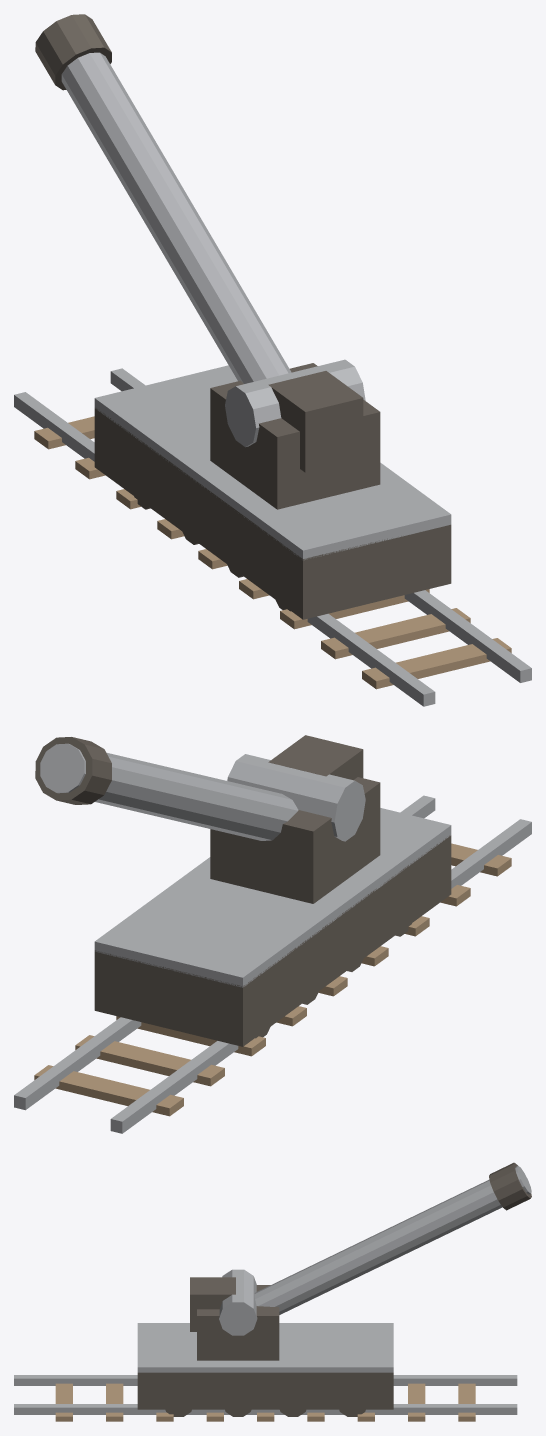
Rendered from enemy-railwaygun.glb.
The picture shows the model from 3 angles, top to bottom: view 1: azimuth 30°, elevation 25°; view 2: azimuth 150°, elevation 25°; view 3: azimuth 270°, elevation 25°; orthographic projection. The views are drawn at different scales.
Visible parts, largest first — view 1: enemy-railwaygun; view 2: enemy-railwaygun; view 3: enemy-railwaygun.
Part boxes in pixels (x1,y1,x2,y2): enemy-railwaygun: (14,14,531,706); enemy-railwaygun: (14,735,531,1133); enemy-railwaygun: (14,1162,531,1421).
Bounding box in the file's own units: 2.3 × 5.71 × 11.32.
